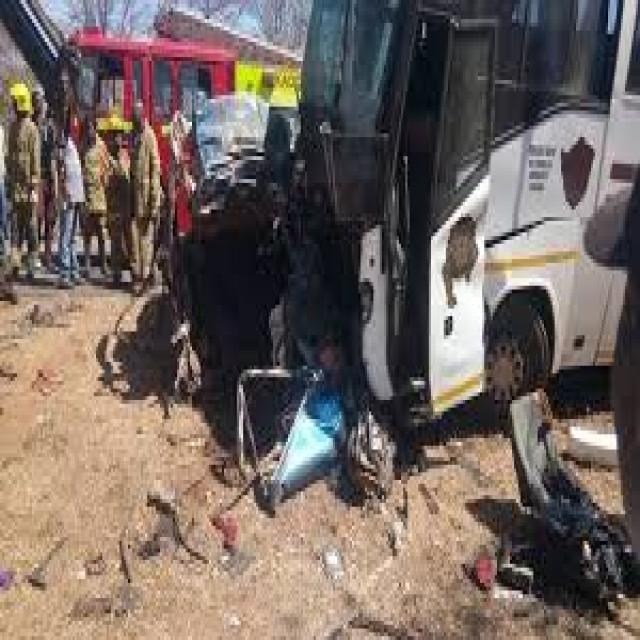accident: (97, 3, 546, 565)
